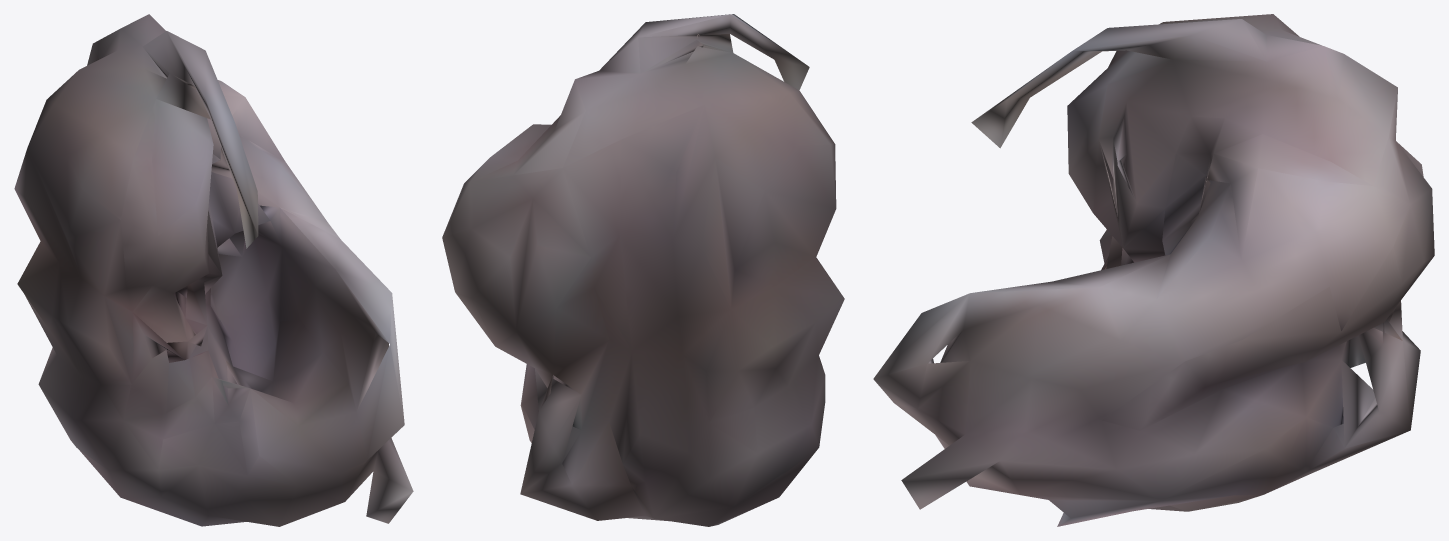
The model's file is sivix_silk.glb.
3 views of the same model, side by side, from view 1: azimuth 30°, elevation 25°; view 2: azimuth 150°, elevation 25°; view 3: azimuth 270°, elevation 25° (orthographic). The views are drawn at different scales.
Visible parts, largest first — view 1: model; view 2: model; view 3: model.
Boxes of the visible parts, x1,y1,x2,y2 form: model: (14, 14, 413, 526); model: (442, 14, 844, 526); model: (873, 14, 1434, 526).
Bounding box in the file's own units: 0.2536 × 0.382 × 0.399.
Materials: 1 (1 with a texture image).
